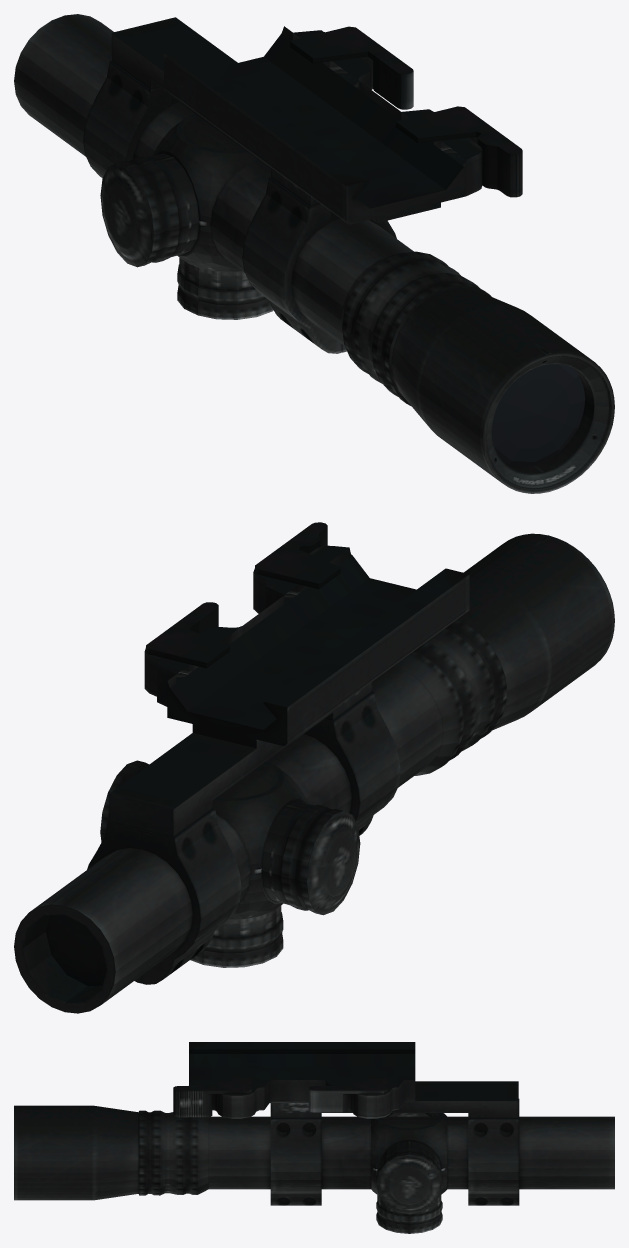
3 renders of one model, top to bottom at view 1: azimuth 30°, elevation 25°; view 2: azimuth 150°, elevation 25°; view 3: azimuth 270°, elevation 25°, orthographic. The views are drawn at different scales.
Parts seen in each view (by area): view 1: TW_544a3d0a4bdc2d1b388b4567_PZ_Import; view 2: TW_544a3d0a4bdc2d1b388b4567_PZ_Import; view 3: TW_544a3d0a4bdc2d1b388b4567_PZ_Import.
Part boxes in pixels (x1=…): TW_544a3d0a4bdc2d1b388b4567_PZ_Import: x1=14, y1=14, x2=614, y2=493; TW_544a3d0a4bdc2d1b388b4567_PZ_Import: x1=14, y1=522, x2=614, y2=1013; TW_544a3d0a4bdc2d1b388b4567_PZ_Import: x1=14, y1=1042, x2=614, y2=1233.
Bounding box in the file's own units: 0.0272 × 0.1038 × 0.0315.
1 material, 1 textured.
